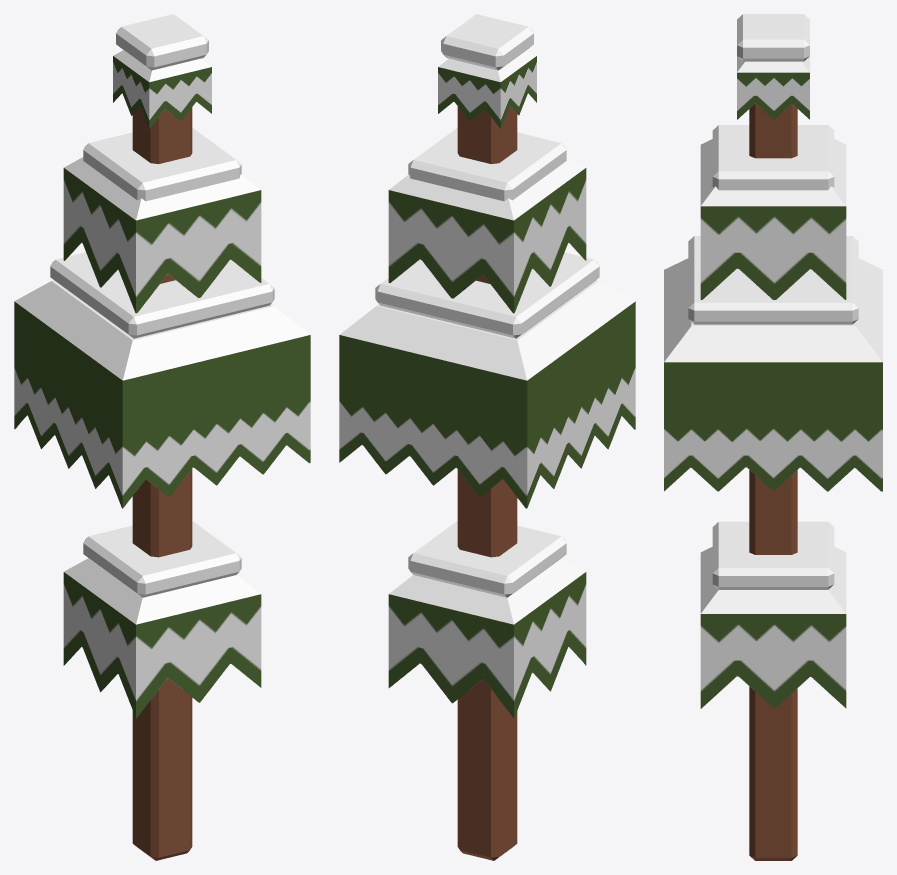
Rendered from Tree 3.fbx.
3 renders of one model, left to right at view 1: azimuth 30°, elevation 25°; view 2: azimuth 150°, elevation 25°; view 3: azimuth 270°, elevation 25°, orthographic.
Visible parts, largest first — view 1: Tree_Crown_3, Tree_Crown_4, Tree_Crown_2, Trunk, Snow_3, Snow_4, Snow_2, Tree_Crown_1, Snow_1; view 2: Tree_Crown_3, Tree_Crown_4, Tree_Crown_2, Trunk, Snow_3, Snow_4, Snow_2, Tree_Crown_1, Snow_1; view 3: Tree_Crown_3, Tree_Crown_4, Tree_Crown_2, Trunk, Snow_3, Snow_4, Snow_2, Tree_Crown_1, Snow_1.
Part boxes in pixels (x1,y1,x2,y2): Tree_Crown_3: [14, 280, 310, 508]; Tree_Crown_4: [63, 558, 261, 718]; Tree_Crown_2: [63, 157, 261, 313]; Trunk: [132, 107, 192, 860]; Snow_3: [50, 252, 274, 338]; Snow_4: [83, 521, 241, 597]; Snow_2: [83, 128, 241, 201]; Tree_Crown_1: [113, 50, 211, 128]; Snow_1: [116, 14, 208, 70]; Tree_Crown_3: [339, 280, 635, 508]; Tree_Crown_4: [388, 558, 586, 718]; Tree_Crown_2: [388, 157, 586, 313]; Trunk: [457, 106, 517, 860]; Snow_3: [375, 252, 599, 338]; Snow_4: [408, 521, 566, 597]; Snow_2: [408, 128, 566, 201]; Tree_Crown_1: [438, 50, 536, 128]; Snow_1: [441, 14, 533, 70]; Tree_Crown_3: [664, 258, 882, 491]; Tree_Crown_4: [700, 547, 846, 708]; Tree_Crown_2: [700, 139, 846, 299]; Trunk: [749, 103, 797, 860]; Snow_3: [688, 236, 858, 324]; Snow_4: [712, 521, 834, 589]; Snow_2: [712, 125, 834, 190]; Tree_Crown_1: [737, 56, 809, 119]; Snow_1: [737, 14, 809, 61].
Bounding box in the file's own units: 0.9 × 3.75 × 0.9.
